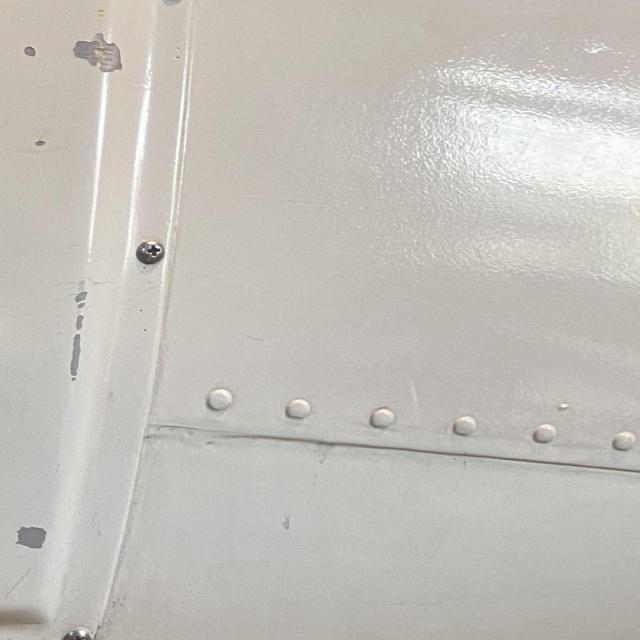Paint-off: (300, 431, 363, 464), (74, 30, 123, 69), (70, 287, 90, 381), (17, 525, 48, 547), (27, 138, 62, 148), (20, 45, 36, 58)
